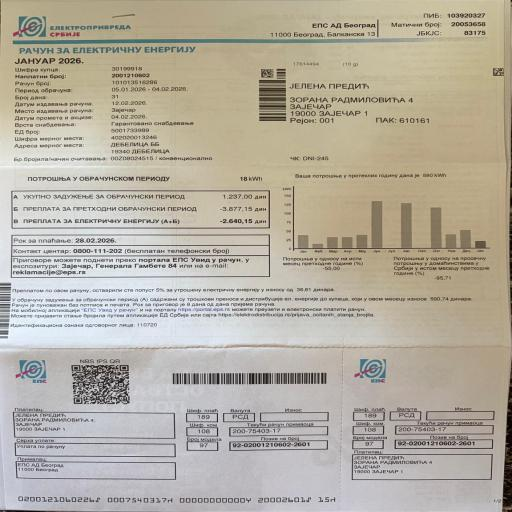racun_za_struju: (8, 167, 276, 245)
